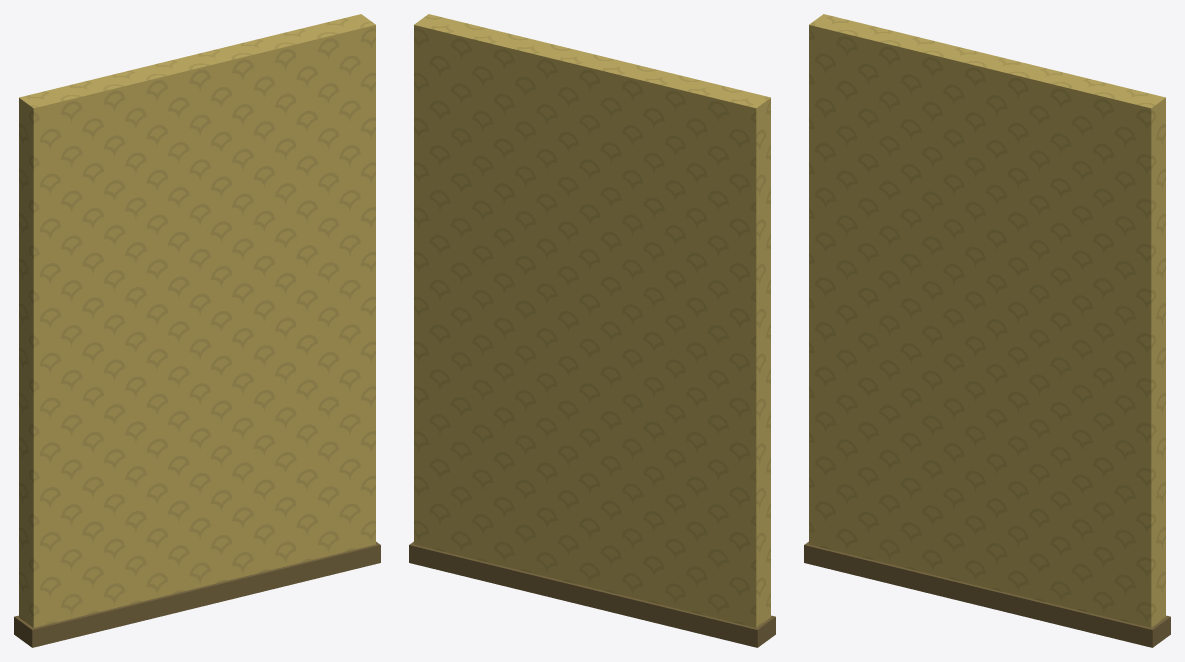
The model's file is BackRoomsWall01Straigh03.FBX.
3 views of the same model, side by side, from view 1: azimuth 30°, elevation 25°; view 2: azimuth 150°, elevation 25°; view 3: azimuth 330°, elevation 25° (orthographic).
Visible parts, largest first — view 1: BackRoomsWall01Straigh03; view 2: BackRoomsWall01Straigh03; view 3: BackRoomsWall01Straigh03.
Boxes of the visible parts, box(x1,y1,x2,y2) form: BackRoomsWall01Straigh03: box(14, 14, 380, 647); BackRoomsWall01Straigh03: box(409, 14, 775, 647); BackRoomsWall01Straigh03: box(804, 14, 1170, 647).
Size of the model in its own units: 204 by 18.54 by 300.
